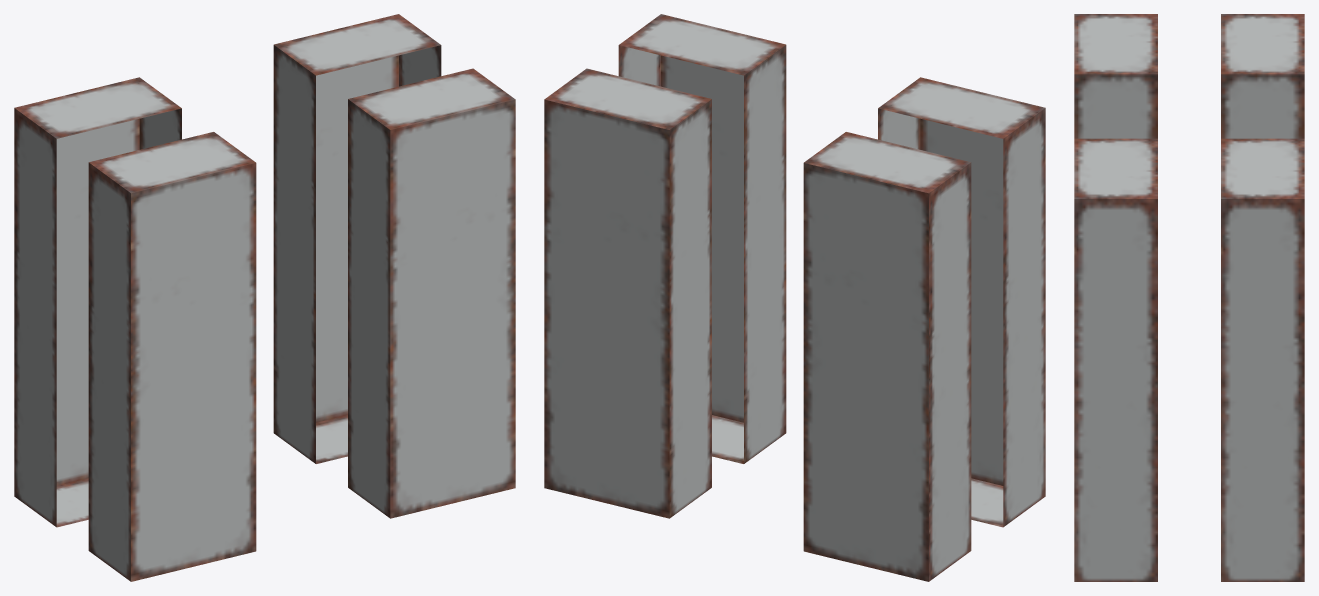
Rendered from mesh_palceholder_beamConnector.fbx.
3 renders of one model, left to right at view 1: azimuth 30°, elevation 25°; view 2: azimuth 150°, elevation 25°; view 3: azimuth 270°, elevation 25°, orthographic.
Visible parts, largest first — view 1: Cube.007; view 2: Cube.007; view 3: Cube.007.
Part boxes in pixels (bbox=[...]): Cube.007: bbox=[14, 14, 515, 581]; Cube.007: bbox=[544, 14, 1045, 581]; Cube.007: bbox=[1074, 14, 1304, 581].
Bounding box in the file's own units: 0.2185 × 0.2109 × 0.115.
